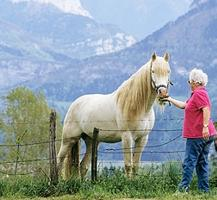person: (162, 70, 214, 196)
